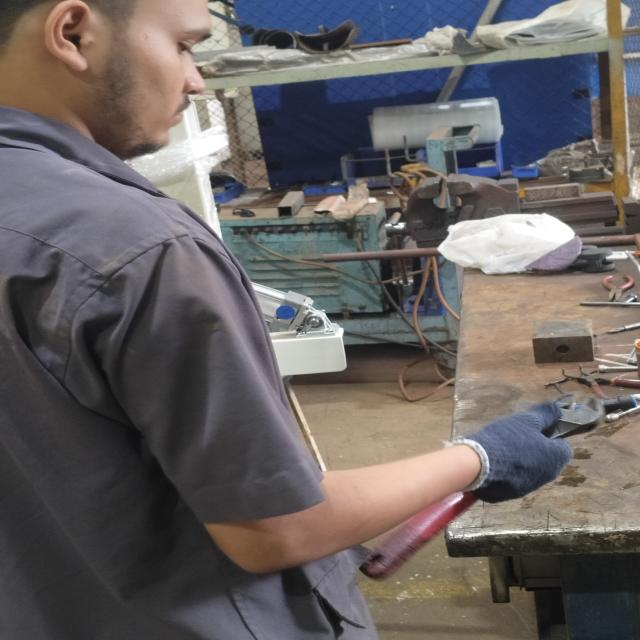Gloves-Detection: (453, 410, 574, 502)
